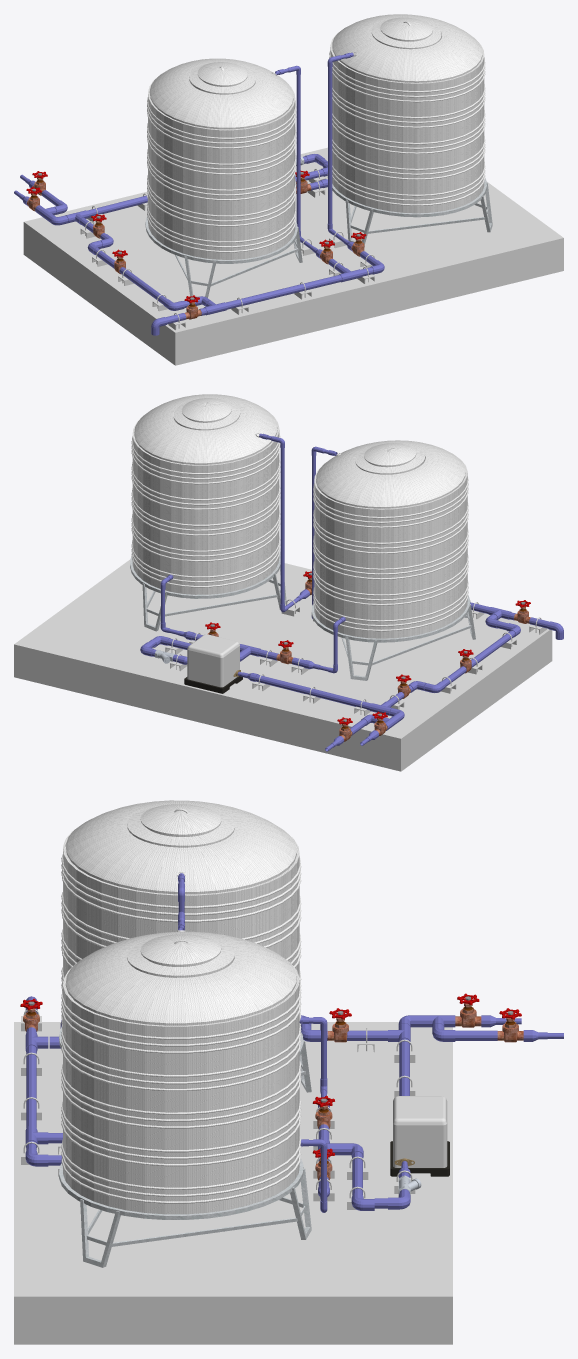
File: tank+tube(test).glb
3 renders of one model, top to bottom at view 1: azimuth 30°, elevation 25°; view 2: azimuth 150°, elevation 25°; view 3: azimuth 270°, elevation 25°, orthographic. The views are drawn at different scales.
Visible parts, largest first — view 1: G-Object.002, C-Component#7.001, C-Component#7, C-Component#5.003, C-Component#5.008, C-Component#5.001, C-Component#5.002, C-Component#5, C-Component#5.004, C-Component#5.006, C-Component#5.007, C-Component#5.005 (+7 smaller); view 2: G-Object.002, C-Component#7.001, C-Component#7, C-Component#5.008, C-Component#5.007, C-Component#5.009, C-Component#5.006, C-Component#5.005, C-Component#5.003, C-Component#5.001, C-Component#5.004, C-Component#5.002 (+6 smaller); view 3: G-Object.002, C-Component#7.001, C-Component#7, C-Component#5.003, C-Component#5.004, C-Component#5, C-Component#5.002, C-Component#5.001, C-Component#5.008, G-Object.003, C-Component#5.006, G-Object.016 (+2 smaller).
Boxes of the visible parts, x1,y1,x2,y2 form: G-Object.002: (23,147,563,365); C-Component#7.001: (148,58,295,129); C-Component#7: (330,14,484,83); C-Component#5.003: (329,45,485,109); C-Component#5.008: (147,80,296,156); C-Component#5.001: (332,80,485,135); C-Component#5.002: (332,132,485,187); C-Component#5: (332,158,485,213); C-Component#5.004: (332,106,485,161); C-Component#5.006: (147,120,296,181); C-Component#5.007: (147,172,296,233); C-Component#5.005: (147,198,296,259); G-Object.002: (14,559,552,771); C-Component#7.001: (314,440,467,509); C-Component#7: (132,394,279,465); C-Component#5.008: (313,465,468,535); C-Component#5.007: (313,550,468,612); C-Component#5.009: (313,524,468,586); C-Component#5.006: (313,499,468,561); C-Component#5.005: (313,576,468,638); C-Component#5.003: (131,413,280,491); C-Component#5.001: (131,456,280,517); C-Component#5.004: (131,481,280,543); C-Component#5.002: (131,507,280,568); G-Object.002: (14,1022,452,1344); C-Component#7.001: (63,800,299,895); C-Component#7: (63,931,299,1026); C-Component#5.003: (61,962,301,1064); C-Component#5.004: (61,1055,301,1139); C-Component#5: (61,1130,301,1214); C-Component#5.002: (61,1092,301,1176); C-Component#5.001: (61,1017,301,1101); C-Component#5.008: (61,831,301,932); G-Object.003: (59,1157,311,1267); C-Component#5.006: (61,886,301,953); G-Object.016: (393,1096,447,1167).
Bounding box in the file's own units: 3.87 × 2.1 × 3.13.
Materials: 13 (6 with a texture image).
